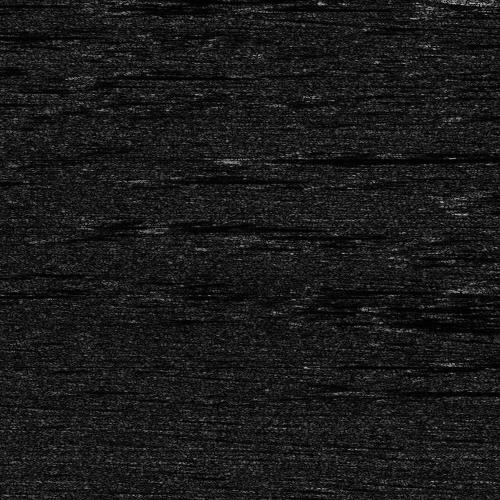rock: (206, 230, 311, 239), (298, 358, 381, 369), (449, 279, 500, 296), (82, 174, 175, 183), (211, 154, 294, 163), (416, 356, 479, 367), (59, 71, 132, 76), (308, 317, 349, 322), (140, 225, 181, 228)
shadow: (253, 154, 458, 163), (340, 358, 483, 369), (129, 174, 288, 183), (259, 230, 393, 239), (96, 71, 253, 76), (448, 356, 500, 367), (161, 225, 321, 228), (0, 32, 41, 37), (329, 317, 364, 322)
